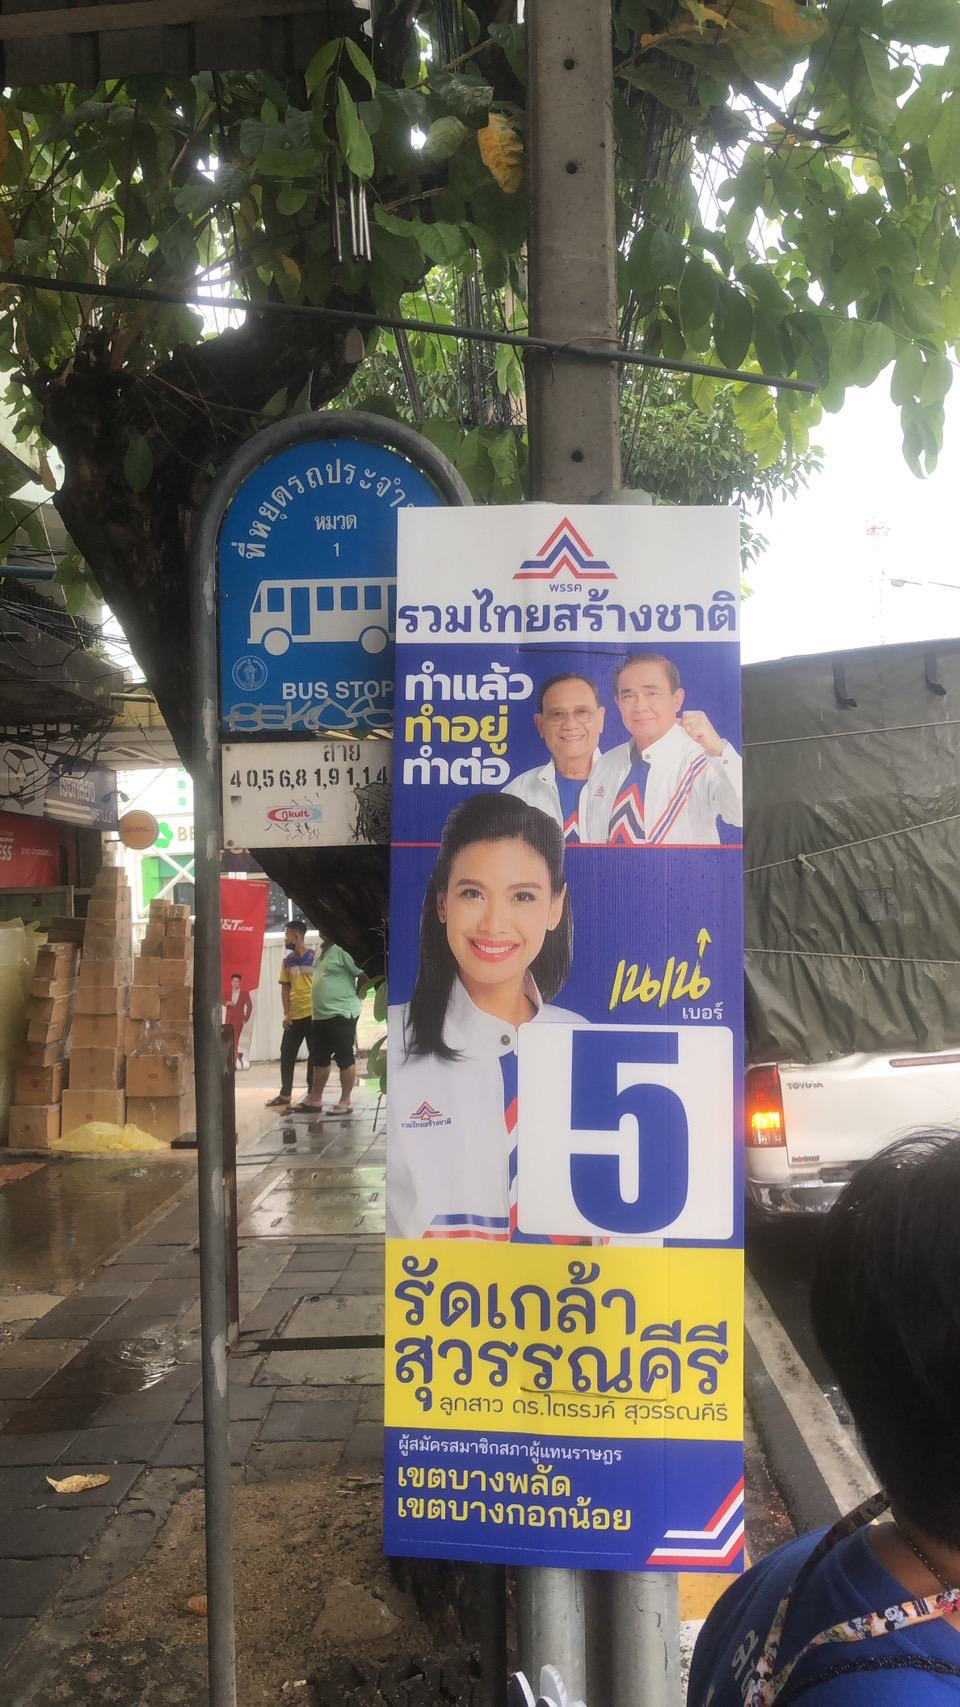Banner: (383, 494, 765, 1575)
